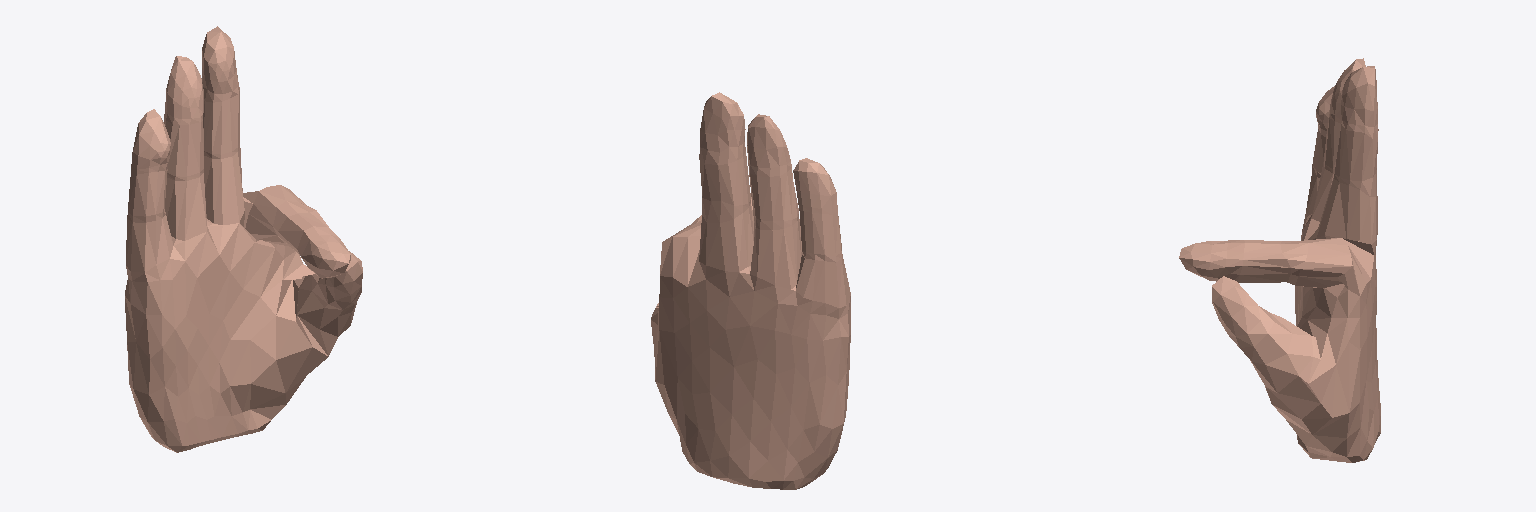
File: MAO_CERTO_RETA.obj
3 views of the same model, side by side, from view 1: azimuth 30°, elevation 25°; view 2: azimuth 150°, elevation 25°; view 3: azimuth 270°, elevation 25° (orthographic).
Parts seen in each view (by area): view 1: mao_dir:mao_dir; view 2: mao_dir:mao_dir; view 3: mao_dir:mao_dir.
Part boxes in pixels (x1,y1,x2,y2): mao_dir:mao_dir: (125,26,362,452); mao_dir:mao_dir: (651,92,850,489); mao_dir:mao_dir: (1179,58,1380,462).
Bounding box in the file's own units: 136 × 243 × 116.